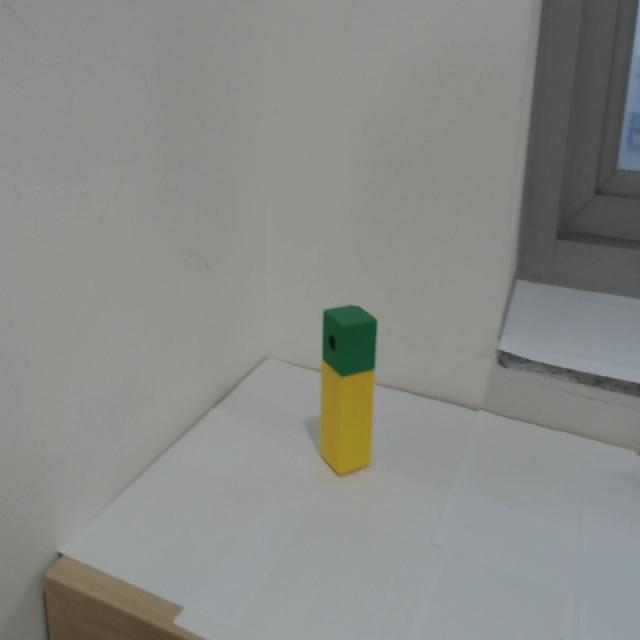cube: (321, 300, 382, 380)
